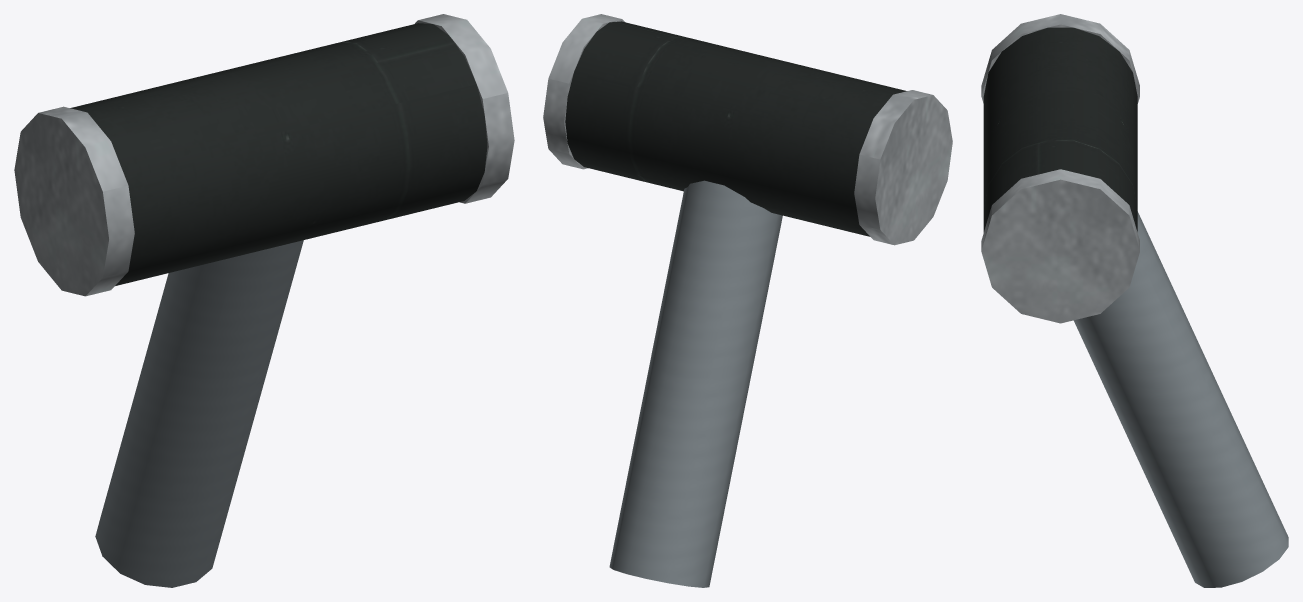
File: prop_ascent_lever.fbx
The picture shows the model from 3 angles, left to right: view 1: azimuth 30°, elevation 25°; view 2: azimuth 150°, elevation 25°; view 3: azimuth 270°, elevation 25°; orthographic projection. The views are drawn at different scales.
Parts seen in each view (by area): view 1: SM_prop_ascent_lever; view 2: SM_prop_ascent_lever; view 3: SM_prop_ascent_lever.
Boxes of the visible parts, left/top/right/bottom form: SM_prop_ascent_lever: left=14, top=14, right=514, bottom=587; SM_prop_ascent_lever: left=543, top=14, right=952, bottom=587; SM_prop_ascent_lever: left=981, top=14, right=1288, bottom=587.
Size of the model in its own units: 0.158 by 0.2139 by 0.1239.
Materials: 3 (3 with a texture image).
